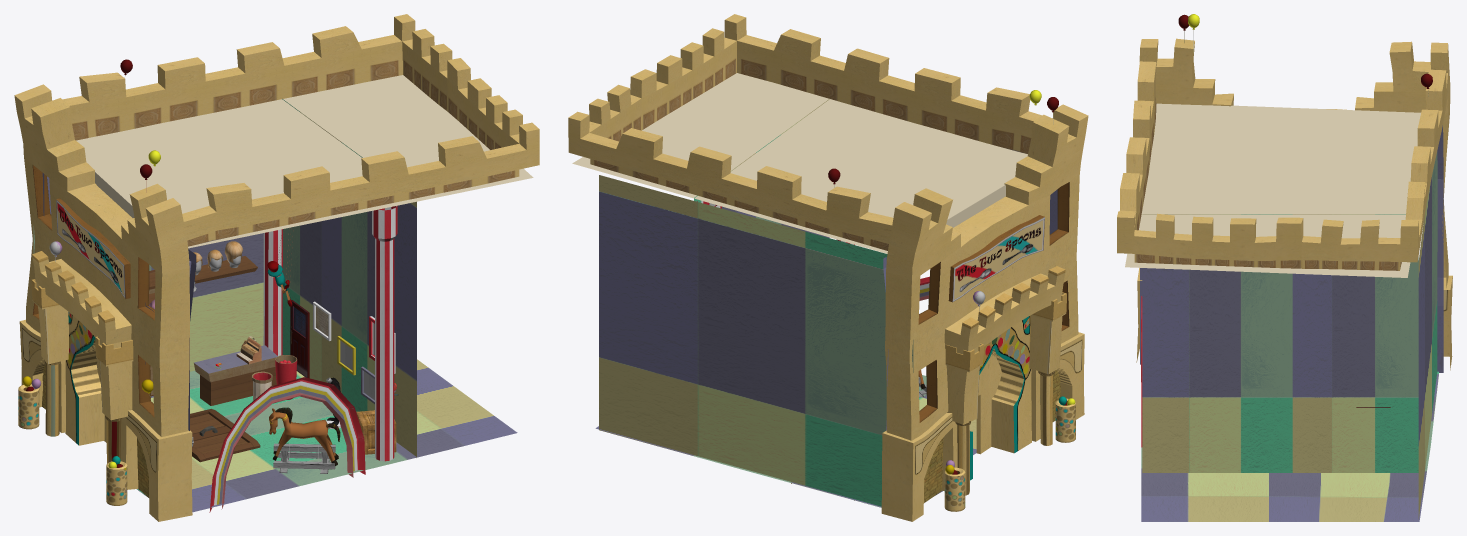
The model's file is TheTwoSpoons.fbx.
The picture shows the model from 3 angles, left to right: view 1: azimuth 30°, elevation 25°; view 2: azimuth 150°, elevation 25°; view 3: azimuth 270°, elevation 25°; orthographic projection. The views are drawn at different scales.
Parts seen in each view (by area): view 1: Front, wall2, Floor, wall1, Pillar2, Rainbow, Desk, Sign, Pillar1, Hatch, polySurface338, polySurface310 (+4 smaller); view 2: Front, wall1, Sign, Floor; view 3: Front, wall2, Floor, wall1, FrontWall.
Part boxes in pixels (box(x1,y1,x2,y2)): Front: box(14, 14, 539, 521); wall2: box(282, 99, 416, 457); Floor: box(137, 359, 517, 512); wall1: box(33, 226, 263, 371); Pillar2: box(372, 205, 397, 461); Rainbow: box(209, 377, 365, 512); Desk: box(194, 345, 277, 405); Sign: box(56, 198, 130, 299); Pillar1: box(263, 229, 282, 356); Hatch: box(190, 409, 260, 462); polySurface338: box(269, 408, 338, 465); polySurface310: box(273, 443, 336, 473); Front: box(568, 14, 1088, 521); wall1: box(599, 175, 913, 507); Sign: box(948, 215, 1044, 302); Floor: box(595, 375, 976, 507); Front: box(1117, 14, 1452, 370); wall2: box(1142, 214, 1418, 472); Floor: box(1141, 371, 1438, 521); wall1: box(1418, 152, 1437, 518); FrontWall: box(1140, 125, 1443, 372).
Size of the model in its own units: 16.33 by 13.32 by 11.63.
